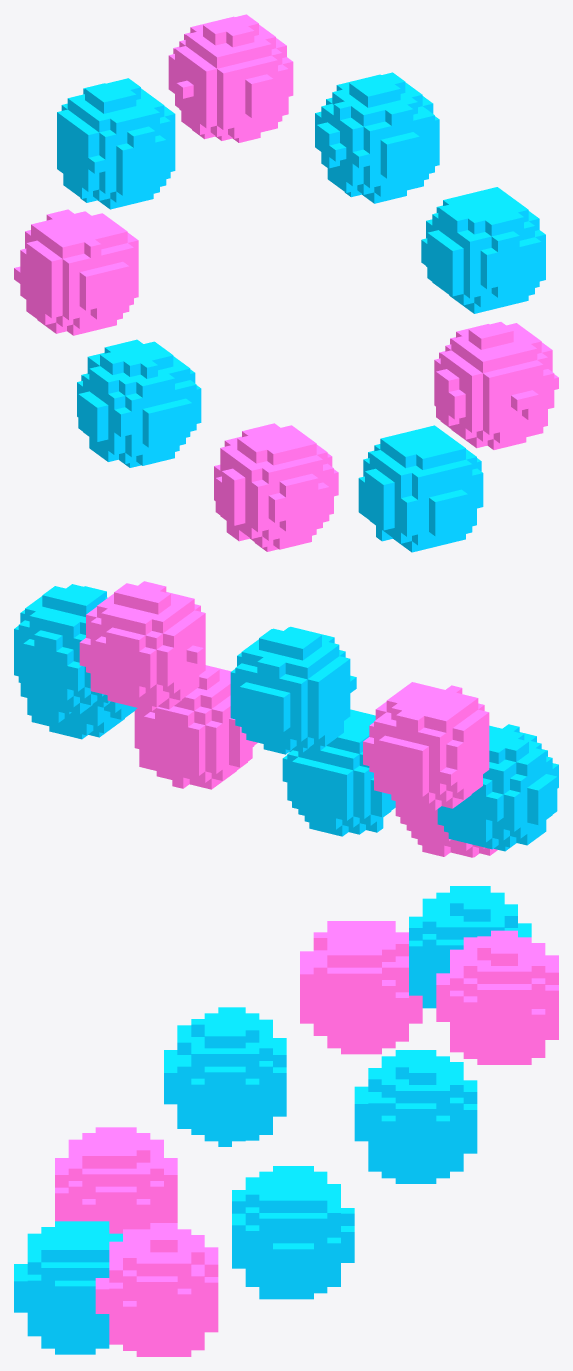
Rendered from ball.gltf.
The picture shows the model from 3 angles, top to bottom: view 1: azimuth 30°, elevation 25°; view 2: azimuth 150°, elevation 25°; view 3: azimuth 270°, elevation 25°; orthographic projection. The views are drawn at different scales.
Visible parts, largest first — view 1: 项链.2-项链 (×2); view 2: 项链.2-项链 (×2); view 3: 项链.2-项链 (×2).
Boxes of the visible parts, <box> form: 项链.2-项链 (×2): <box>14,14,558,552</box>; 项链.2-项链 (×2): <box>14,581,558,857</box>; 项链.2-项链 (×2): <box>14,886,558,1356</box>.
Size of the model in its own units: 5.28 by 3.84 by 4.8.
